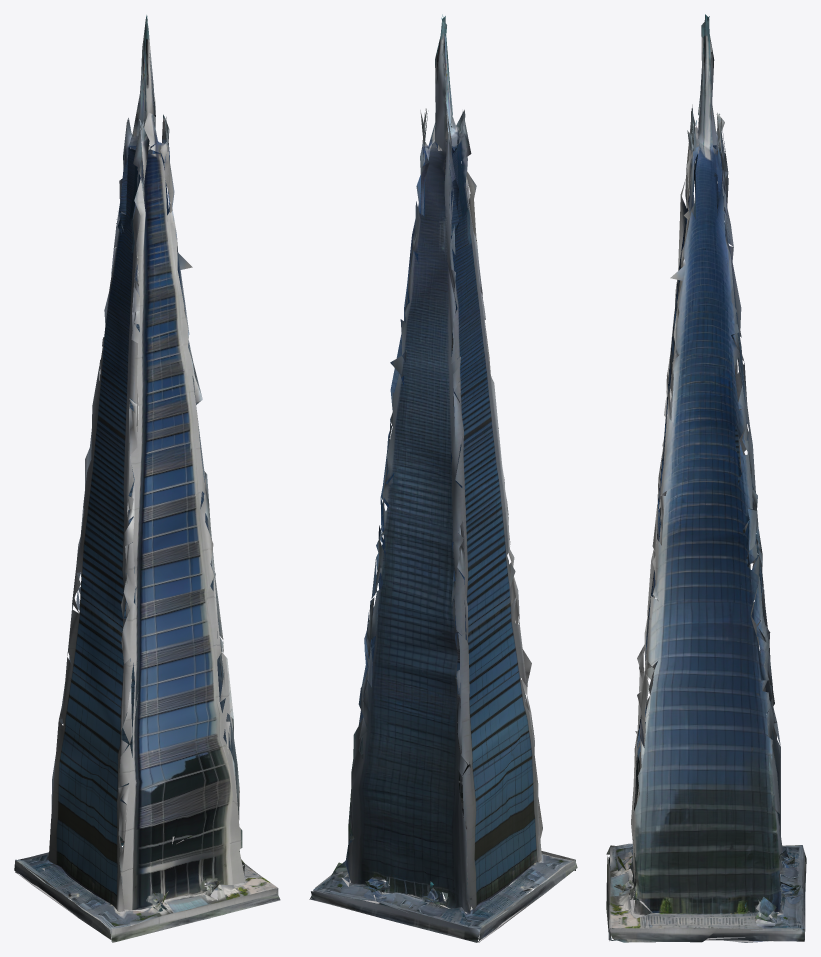
File: edificio7_opt.glb
3 views of the same model, side by side, from view 1: azimuth 30°, elevation 25°; view 2: azimuth 150°, elevation 25°; view 3: azimuth 270°, elevation 25° (orthographic).
Parts seen in each view (by area): view 1: Mesh_0; view 2: Mesh_0; view 3: Mesh_0.
Boxes of the visible parts, x1,y1,x2,y2 form: Mesh_0: (14, 15, 280, 942); Mesh_0: (309, 14, 577, 942); Mesh_0: (606, 14, 806, 942).
Bounding box in the file's own units: 0.4058 × 1.97 × 0.4022.
1 material, 1 textured.
